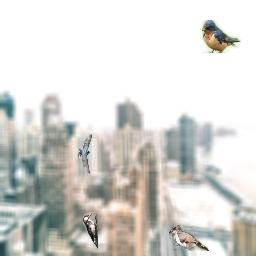Cuckoo: (169, 225, 209, 251)
Swallow: (202, 20, 242, 53), (76, 134, 92, 174)
Woodpecker: (83, 212, 98, 251)
